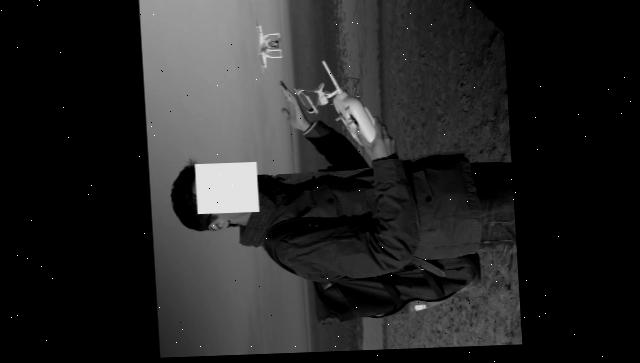drone: (254, 21, 284, 75)
